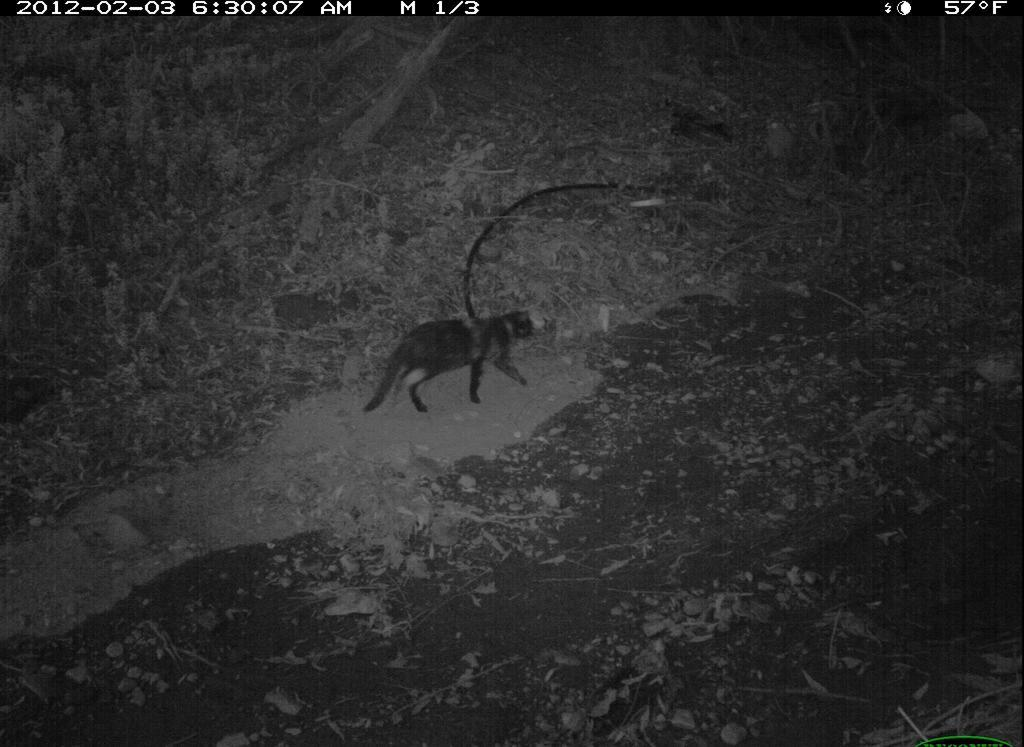cat: (361, 297, 553, 429)
